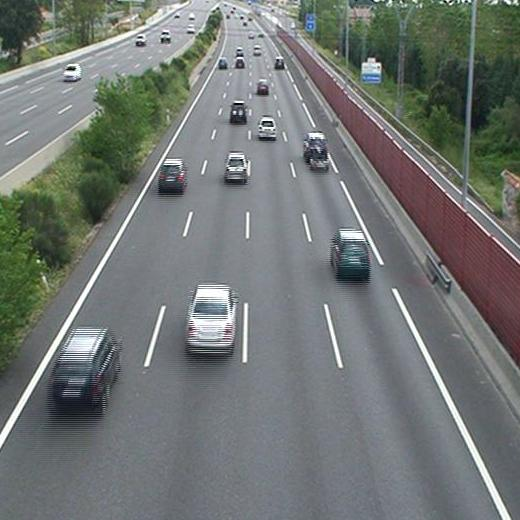car: (55, 330, 117, 391), (184, 285, 234, 352), (332, 231, 370, 277), (159, 160, 185, 187), (224, 154, 247, 180), (305, 134, 326, 158), (258, 119, 276, 138), (229, 101, 247, 118), (256, 79, 269, 93), (253, 45, 263, 57), (274, 57, 284, 68), (234, 57, 245, 67), (218, 58, 228, 69)
